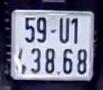1: (71, 16, 80, 47)
3: (30, 47, 42, 75)
4: (14, 46, 27, 76)
5: (24, 15, 36, 44)
6: (62, 47, 73, 76)
8: (43, 45, 57, 74), (76, 48, 89, 76)
9: (36, 15, 51, 45)
U: (58, 16, 70, 45)
